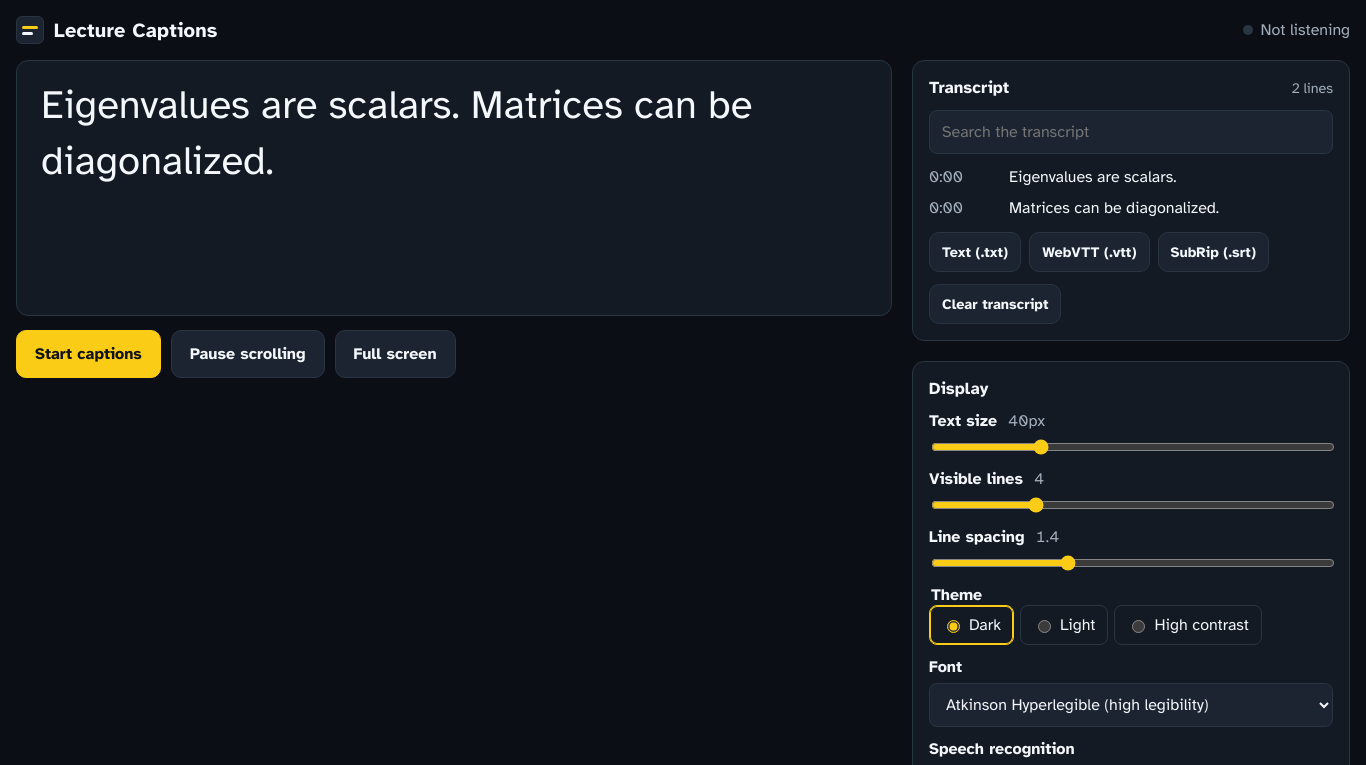
App › searches the transcript and keeps it after a reload
The width and height of the screenshot is (1366, 765).
Earlier steps of the test are not shown.
Expected: the text "2 lines" is shown, x1=1292 y1=79 x2=1333 y2=97
Type "eigen" into the search field at (1131, 132), box x1=929 y1=110 x2=1333 y2=154
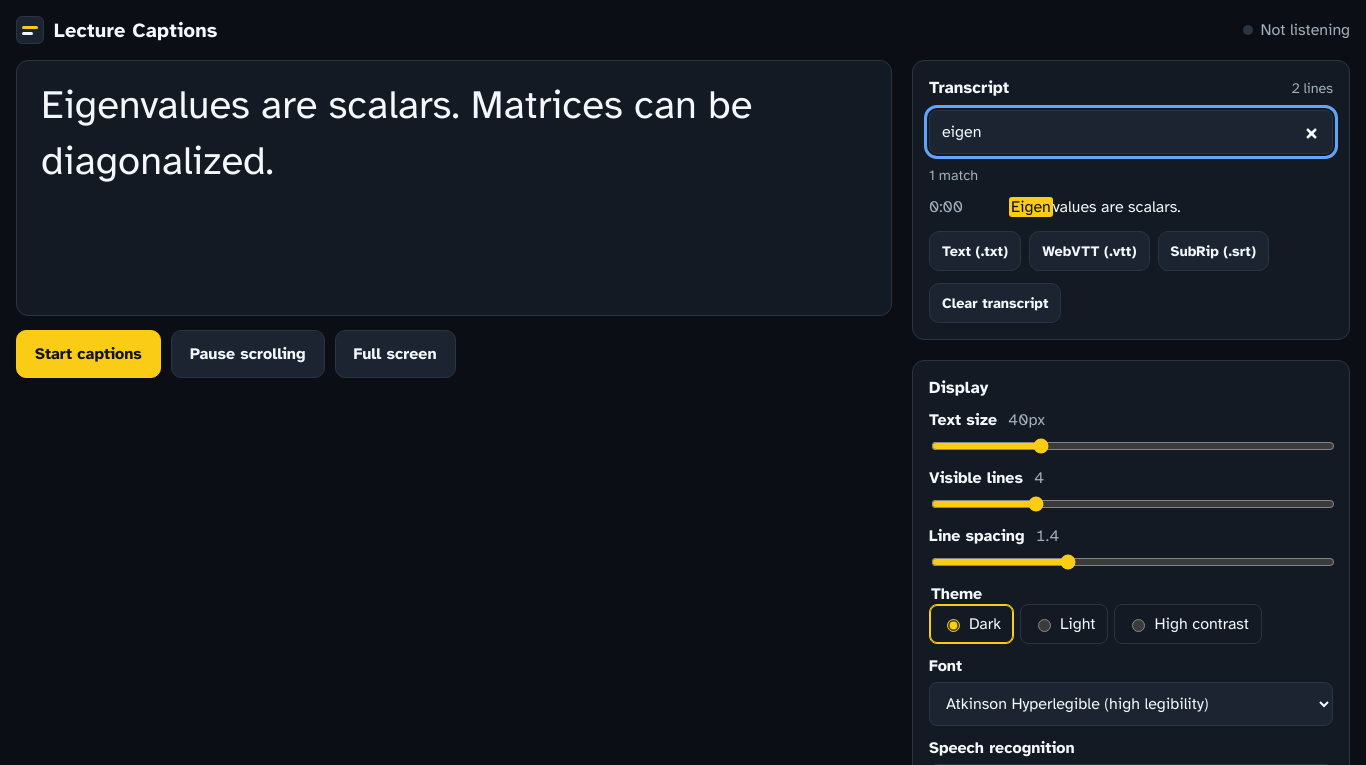
Expected: the list does not show "Matrices", x1=929 y1=197 x2=1180 y2=217
Now the text "1 match" is shown, box x1=929 y1=166 x2=978 y2=184
